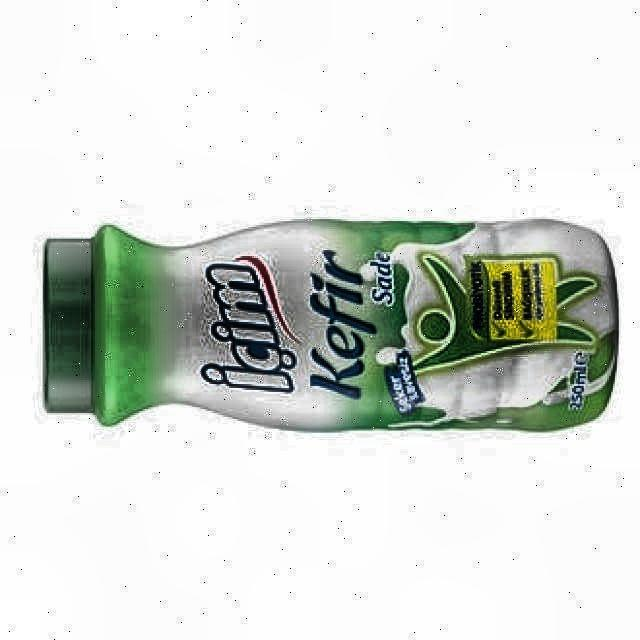plastic: (44, 220, 618, 430)
